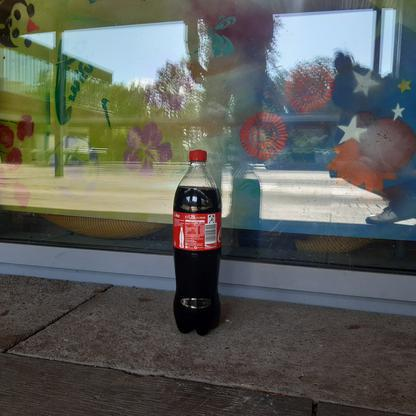coca-cola: (171, 147, 223, 337)
